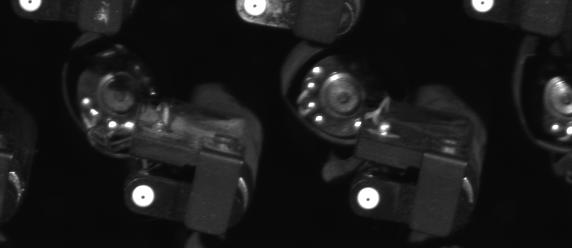fiber: (127, 182, 158, 214), (353, 183, 385, 212), (240, 1, 274, 20), (468, 1, 500, 17), (10, 1, 47, 13)
